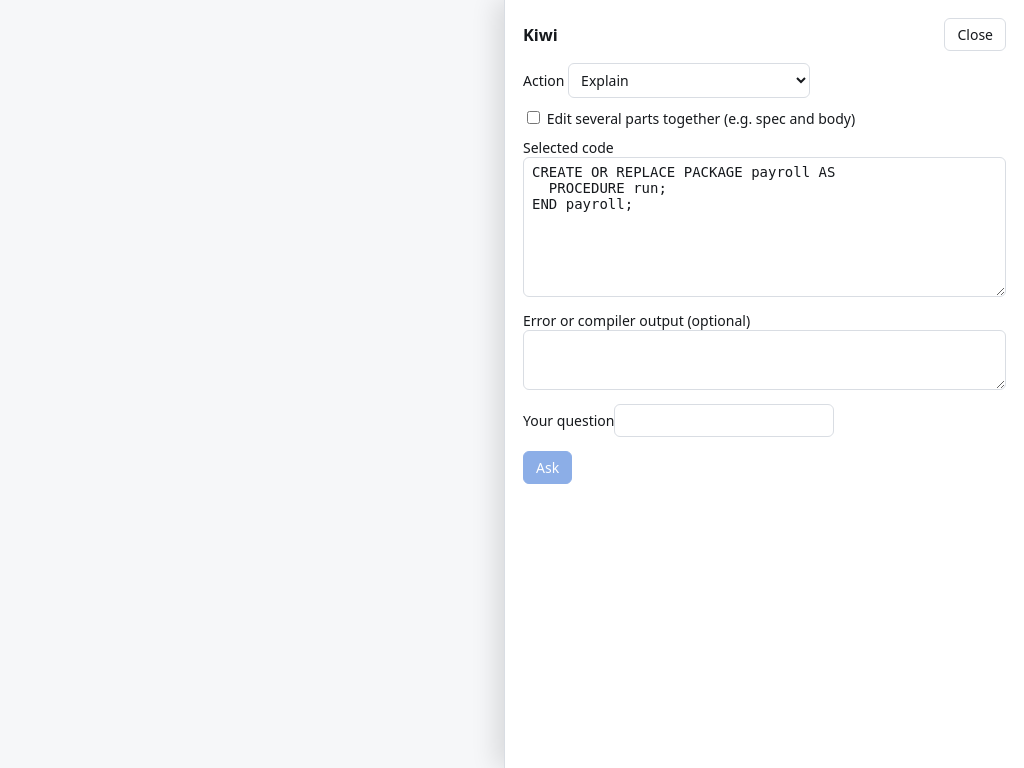
multi-part proposals › refuses a part name the server would reject
Click the checkbox labelled "Edit several parts together (e.g. spec and body)" at (534, 118), box [527,111,540,124]
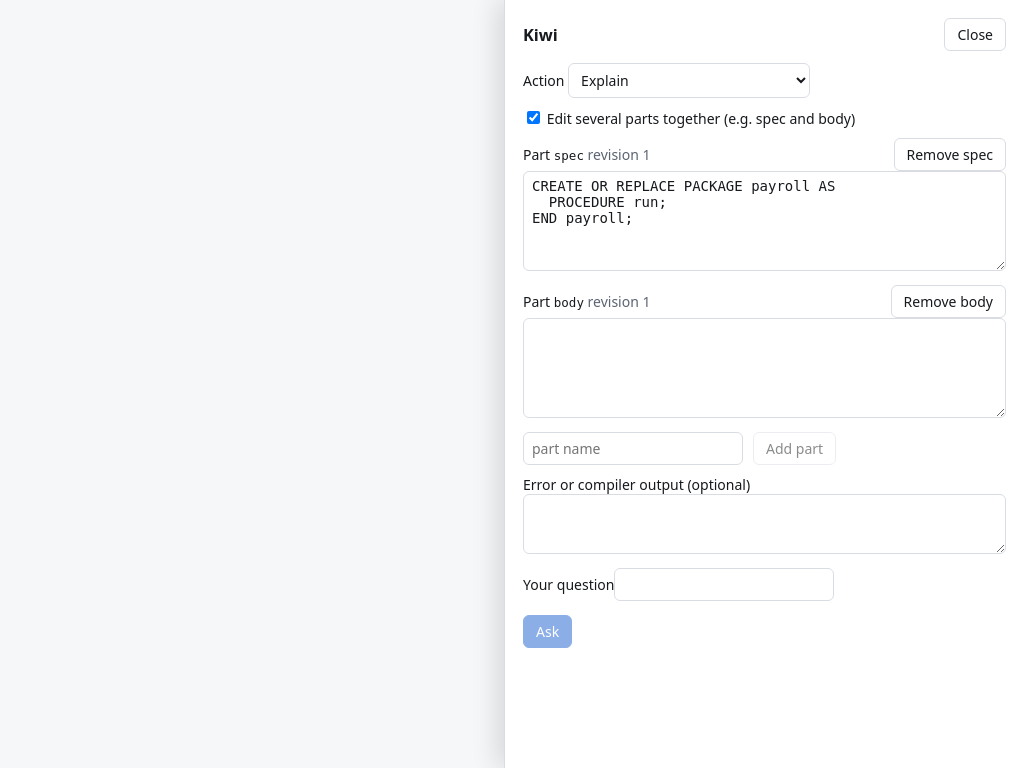
Type "bad name" into the field named "New part name" at (633, 448), box [523,432,743,465]
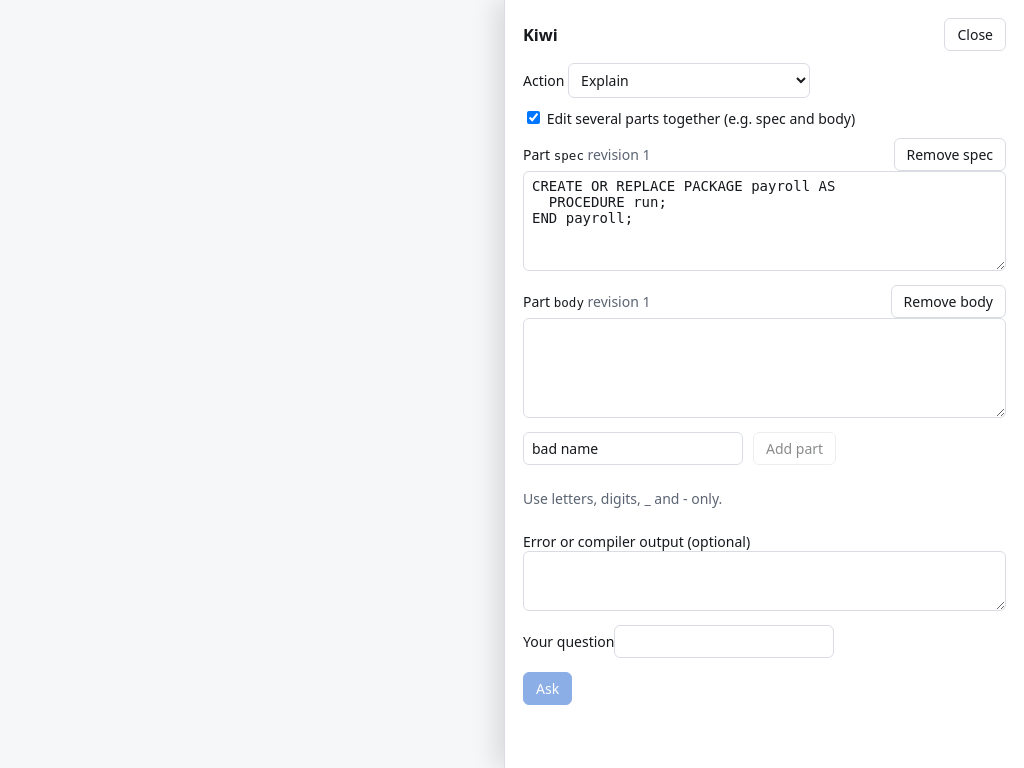
Expected: the button "Add part" is disabled, [753,432,836,465]
Replace the text in the field named "New part name" with "body" at (633, 448), box [523,432,743,465]
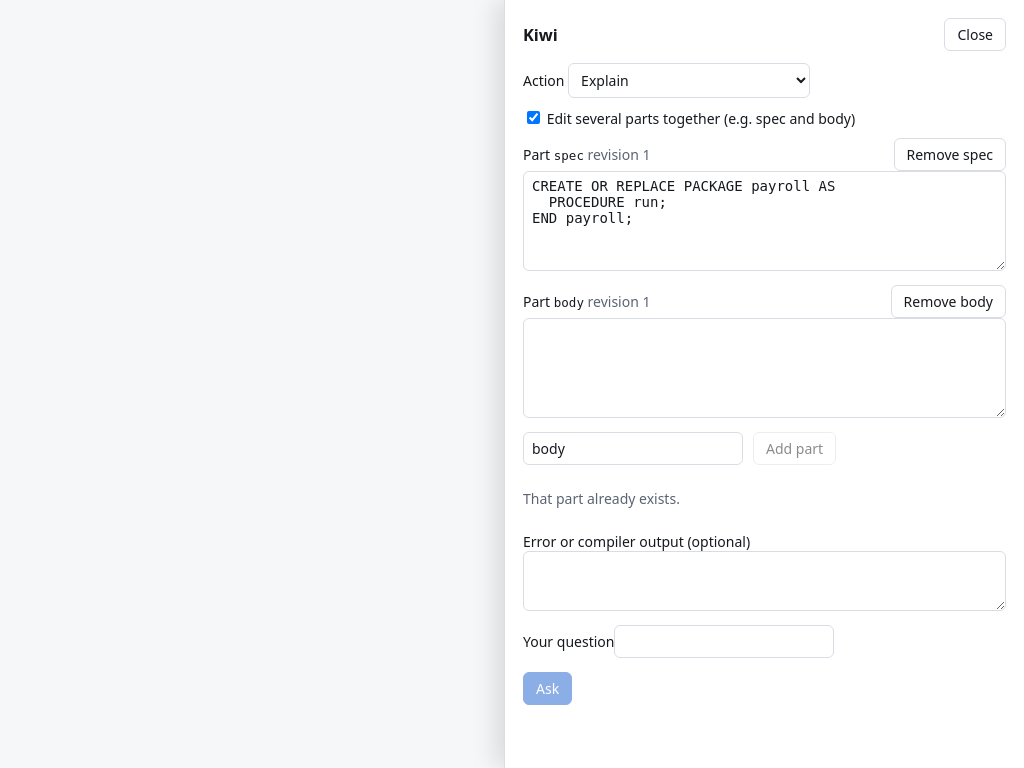
Expected: the button "Add part" is disabled, [753,432,836,465]
Replace the text in the field named "New part name" with "types" at (633, 448), box [523,432,743,465]
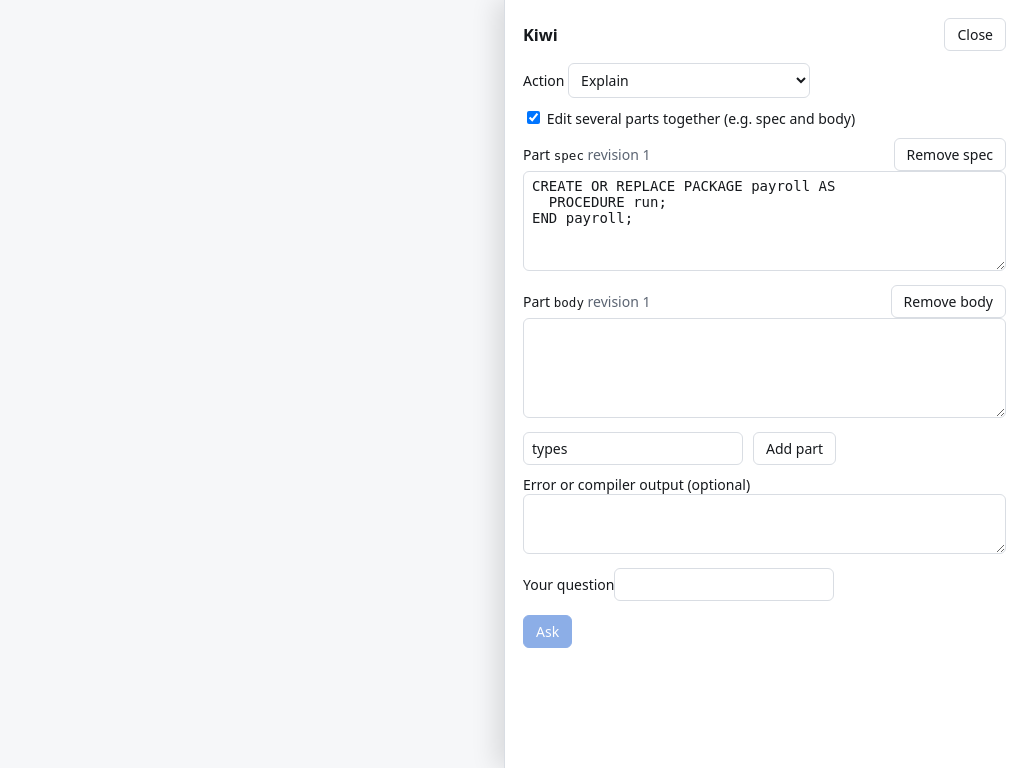
Click the button "Add part" at (795, 448), box [753,432,836,465]
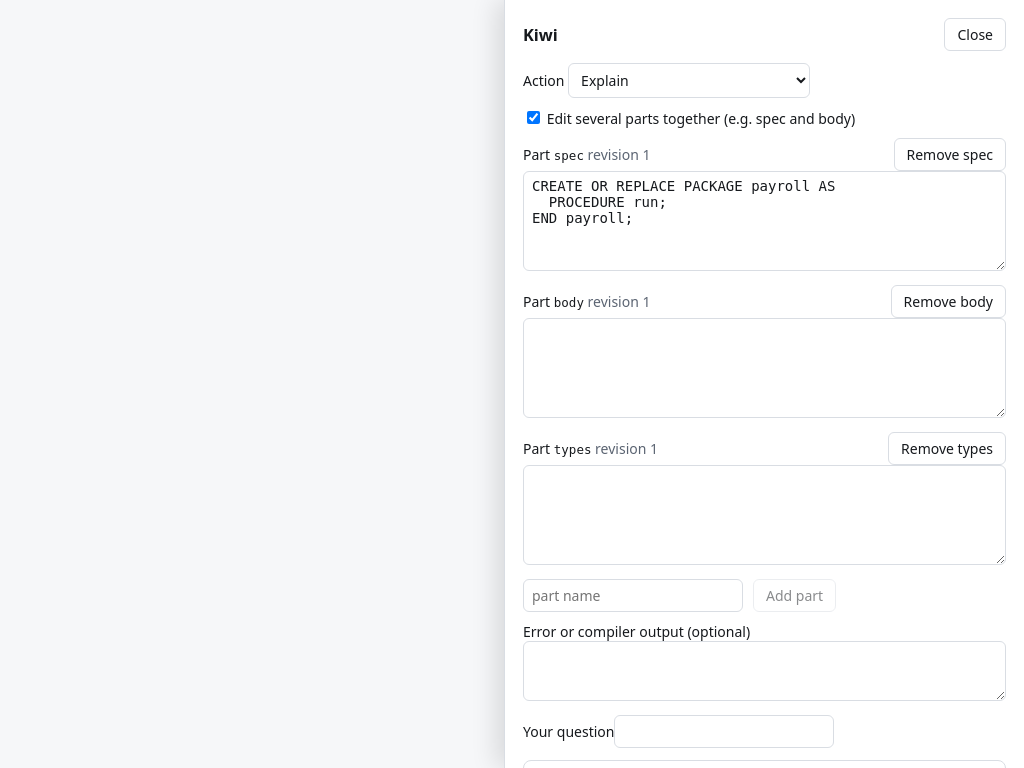
Expected: the text box named "Part types" is shown, [523,465,1006,565]
